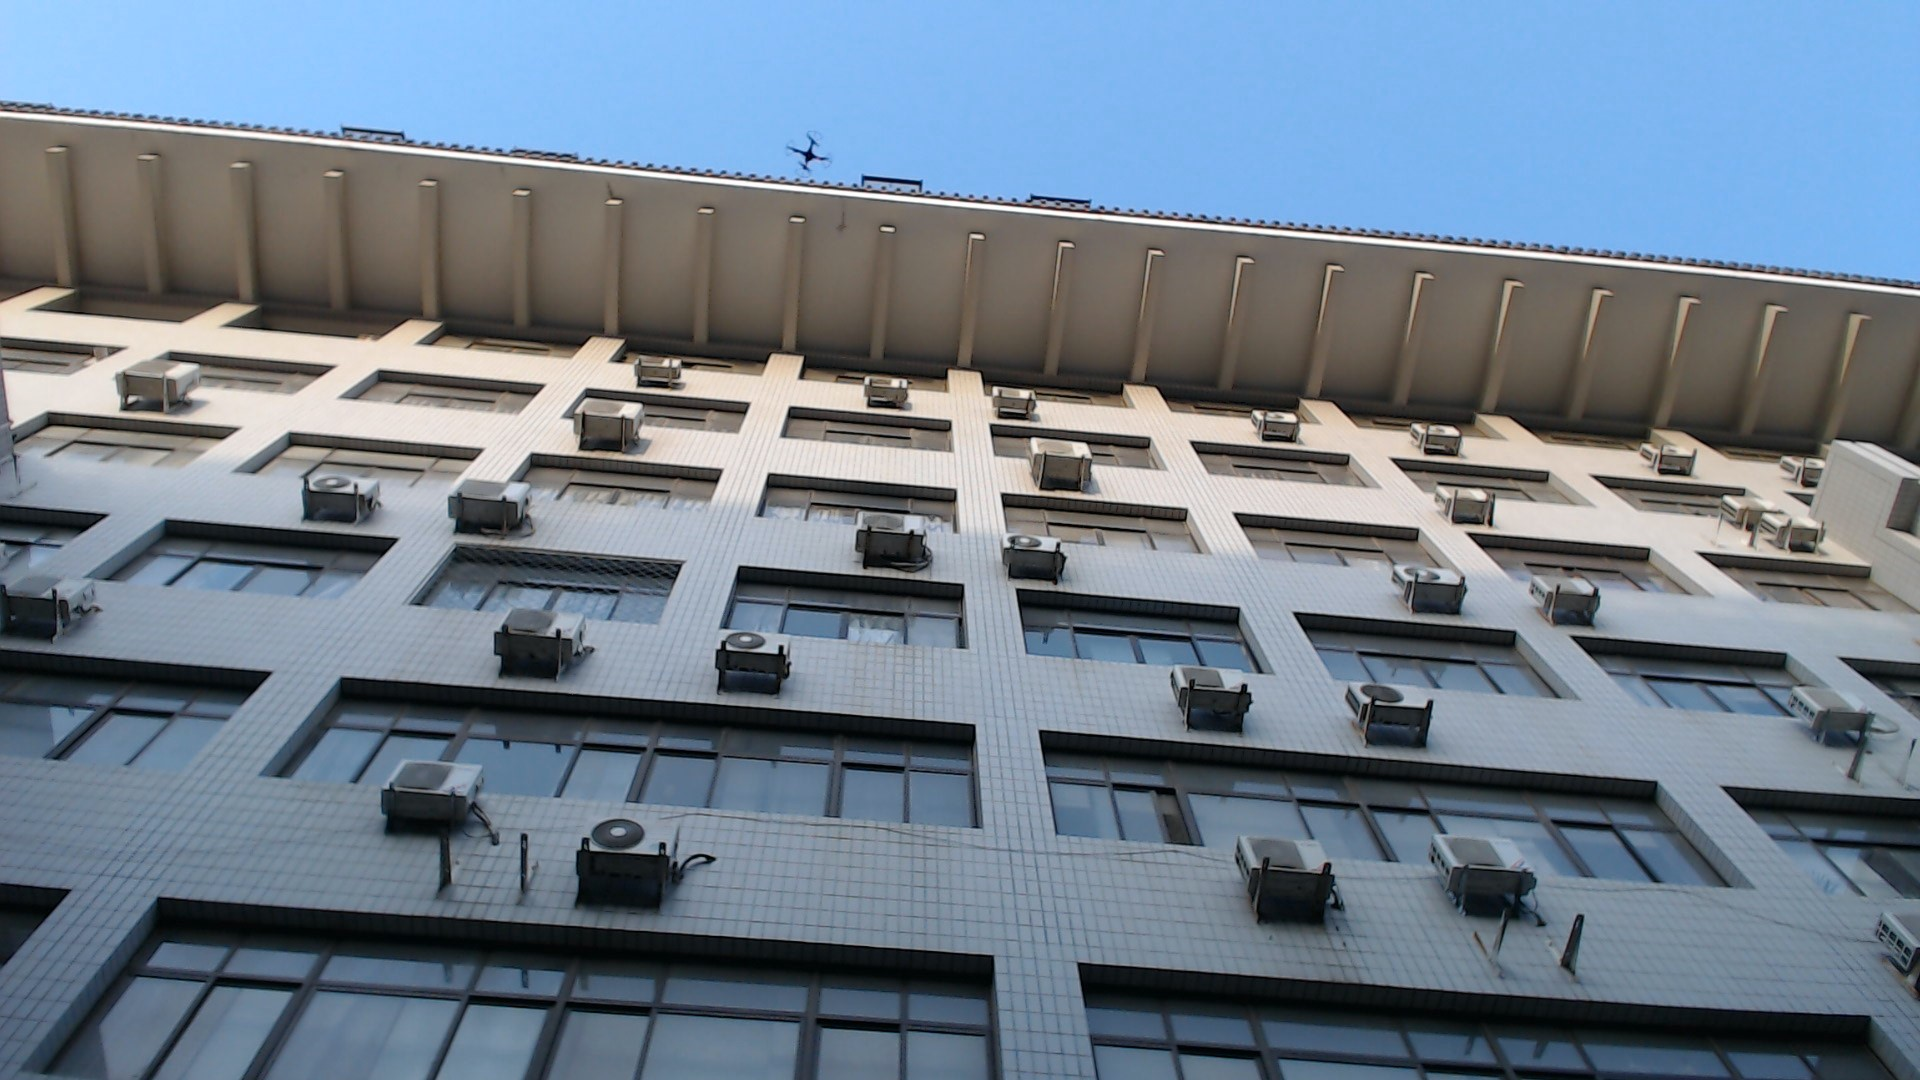drone: (771, 116, 843, 189)
